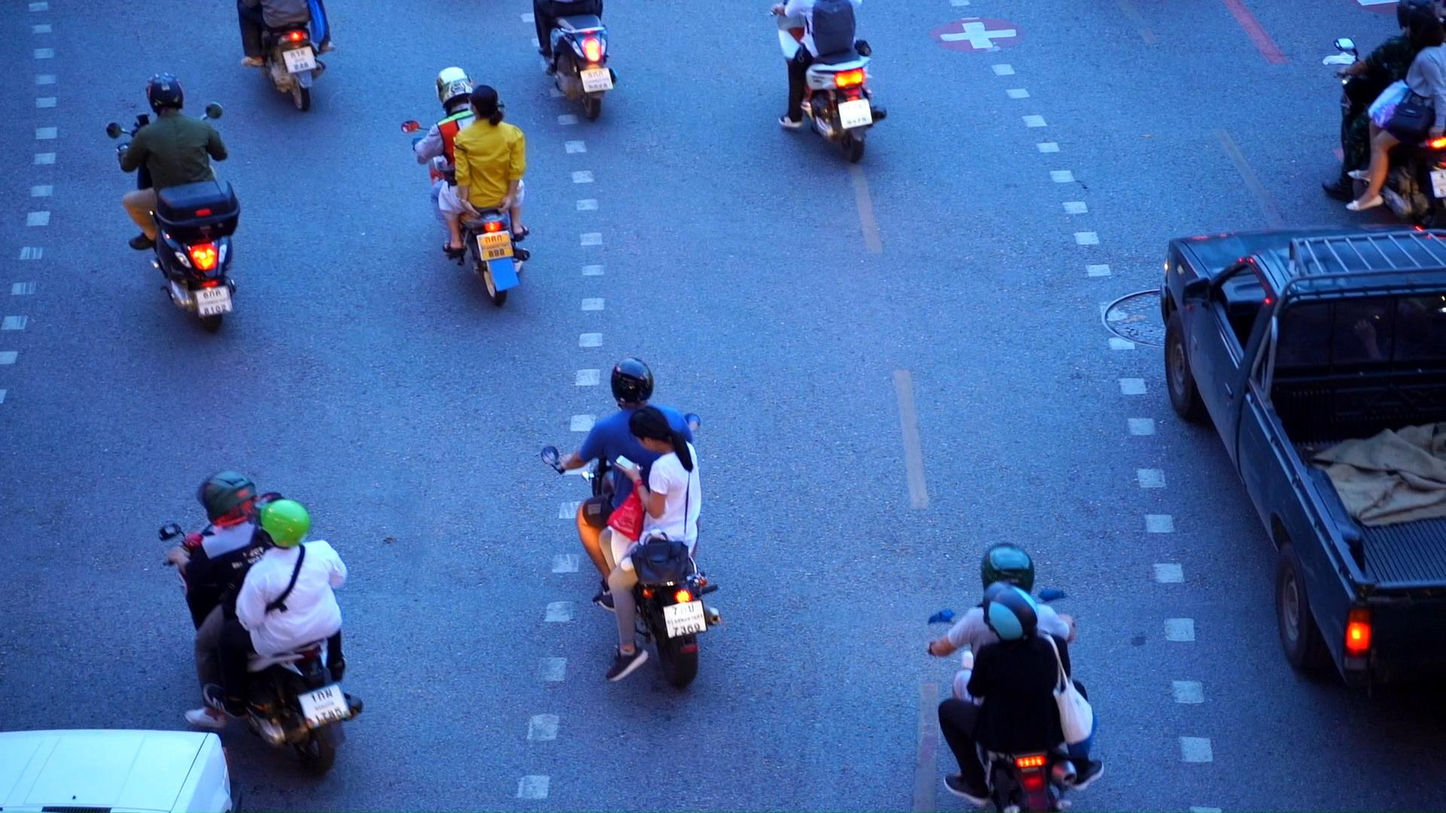driver: (156, 469, 364, 776), (541, 357, 722, 690), (924, 542, 1105, 813), (105, 72, 241, 334), (402, 66, 530, 305), (1320, 0, 1446, 230), (770, 0, 888, 163), (236, 0, 337, 111), (533, 0, 619, 121)
helmet: (247, 492, 310, 550), (196, 469, 258, 527), (983, 581, 1040, 644), (981, 542, 1035, 596), (611, 357, 653, 406), (435, 66, 474, 109), (145, 72, 184, 113), (1396, 0, 1435, 30)
no-helmet: (628, 406, 693, 454), (1405, 5, 1446, 56), (467, 84, 504, 127)
